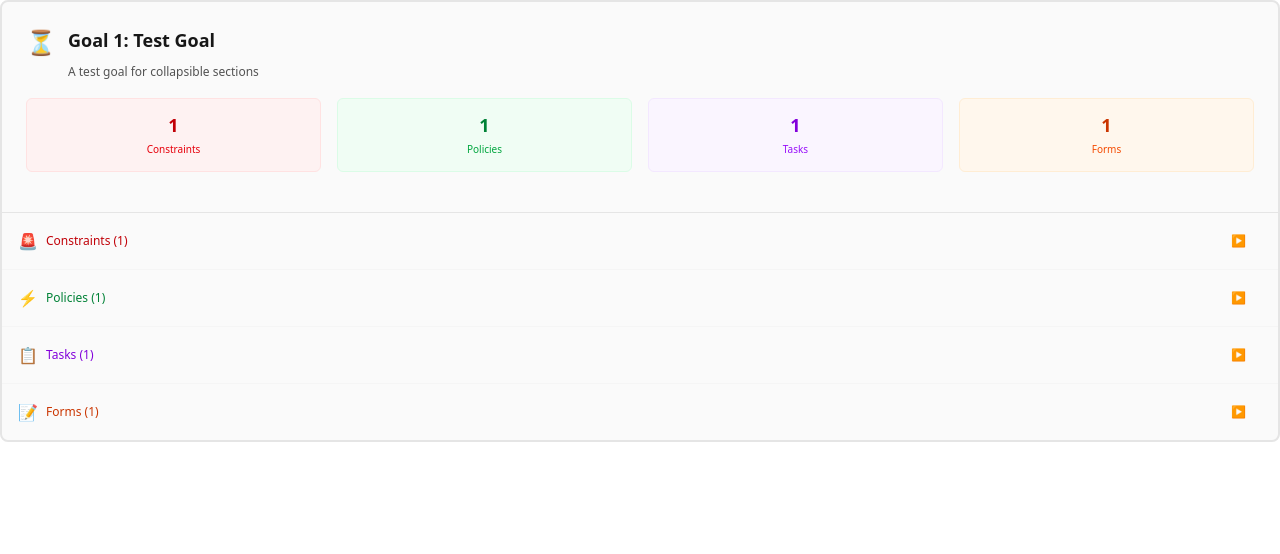
Scenario: GoalCardV2 › collapses section when clicked again
What coordinates should you click on to do the following:
click the button "🚨 Constraints (1) ▶"
I would click on:
 (82, 240)
Its box is [10,220,1254,260].
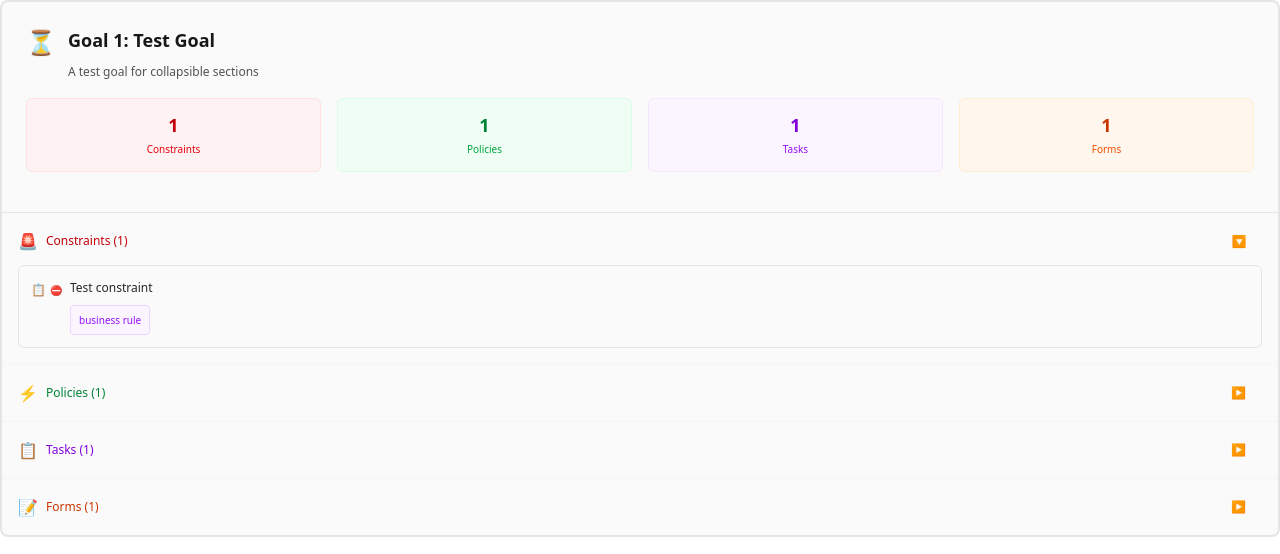
Expected: the text "Test constraint" is shown, [70,278,153,296]
// Click again to collapse
What coordinates should you click on to do the following:
click the button "🚨 Constraints (1) ▶"
I would click on:
 (82, 240)
Its box is [10,220,1254,260].
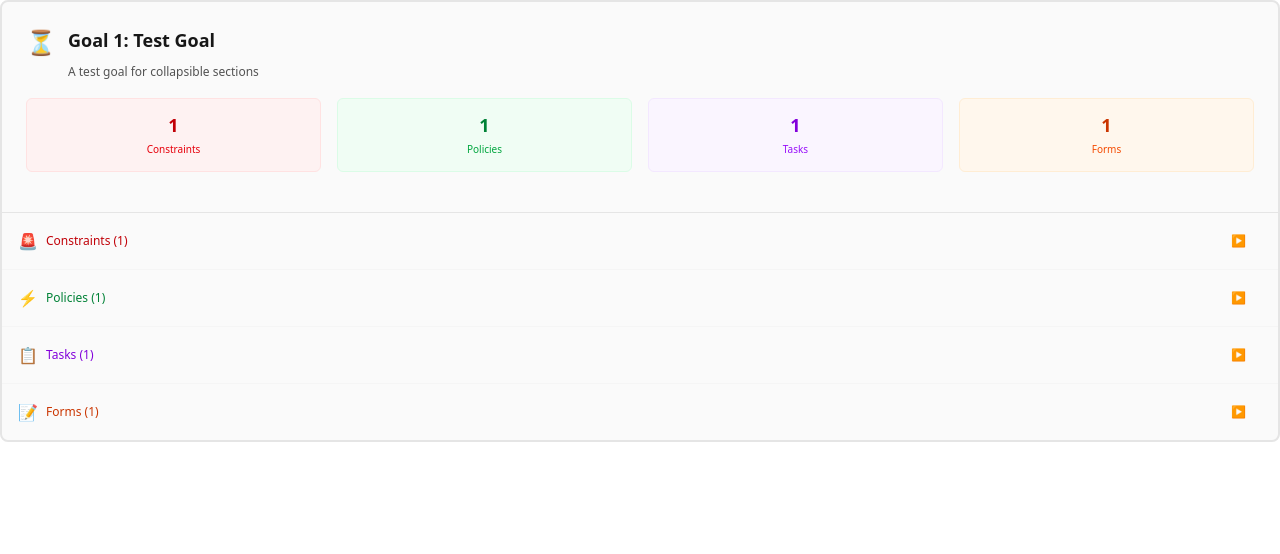
Expected: the text "Test constraint" is gone
